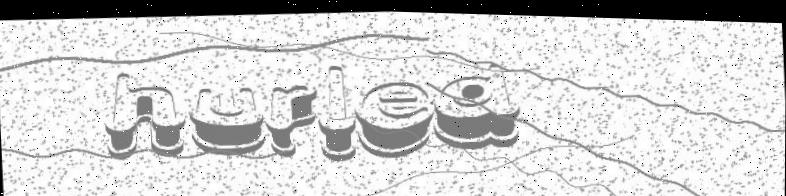d: (427, 58, 526, 150)
e: (355, 71, 437, 157)
h: (99, 63, 187, 161)
l: (311, 60, 361, 163)
r: (262, 81, 322, 156)
u: (184, 79, 267, 157)
